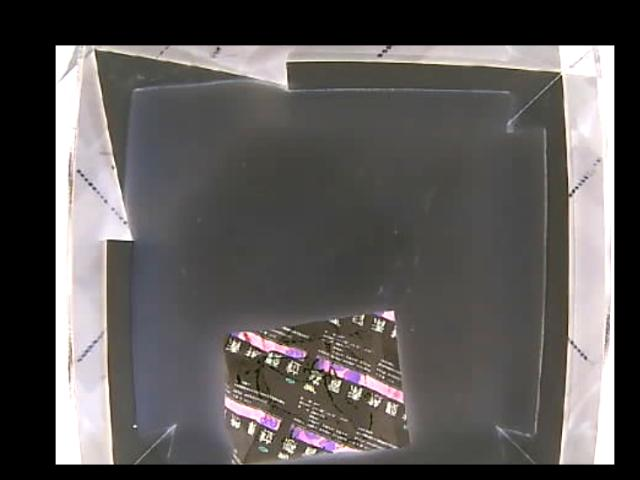Medicine: (219, 310, 410, 464)
